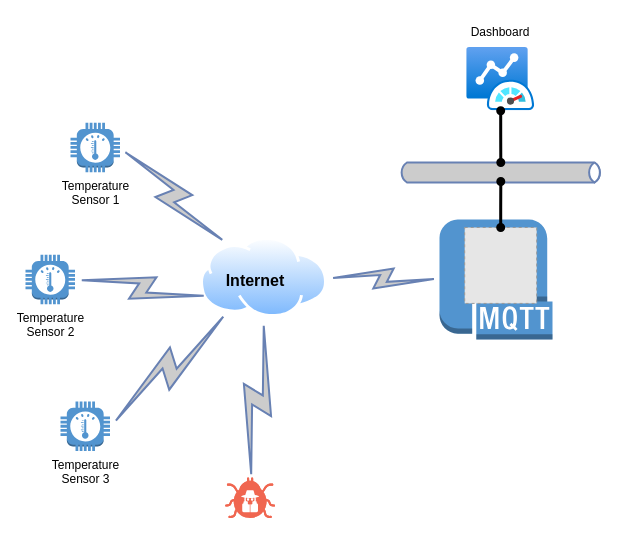
The diagram is 621 pixels wide and 556 high, and some of its shapes have lost their labels. Grey dashed boxes stand in for pictures. The shapes that lost their labels are listed below. From the top down, each one's box as (x1, y1, x2, y2) in pixels, then its label:
(398, 156, 603, 188): Internal Docker Network
(224, 476, 275, 518): Attacker
